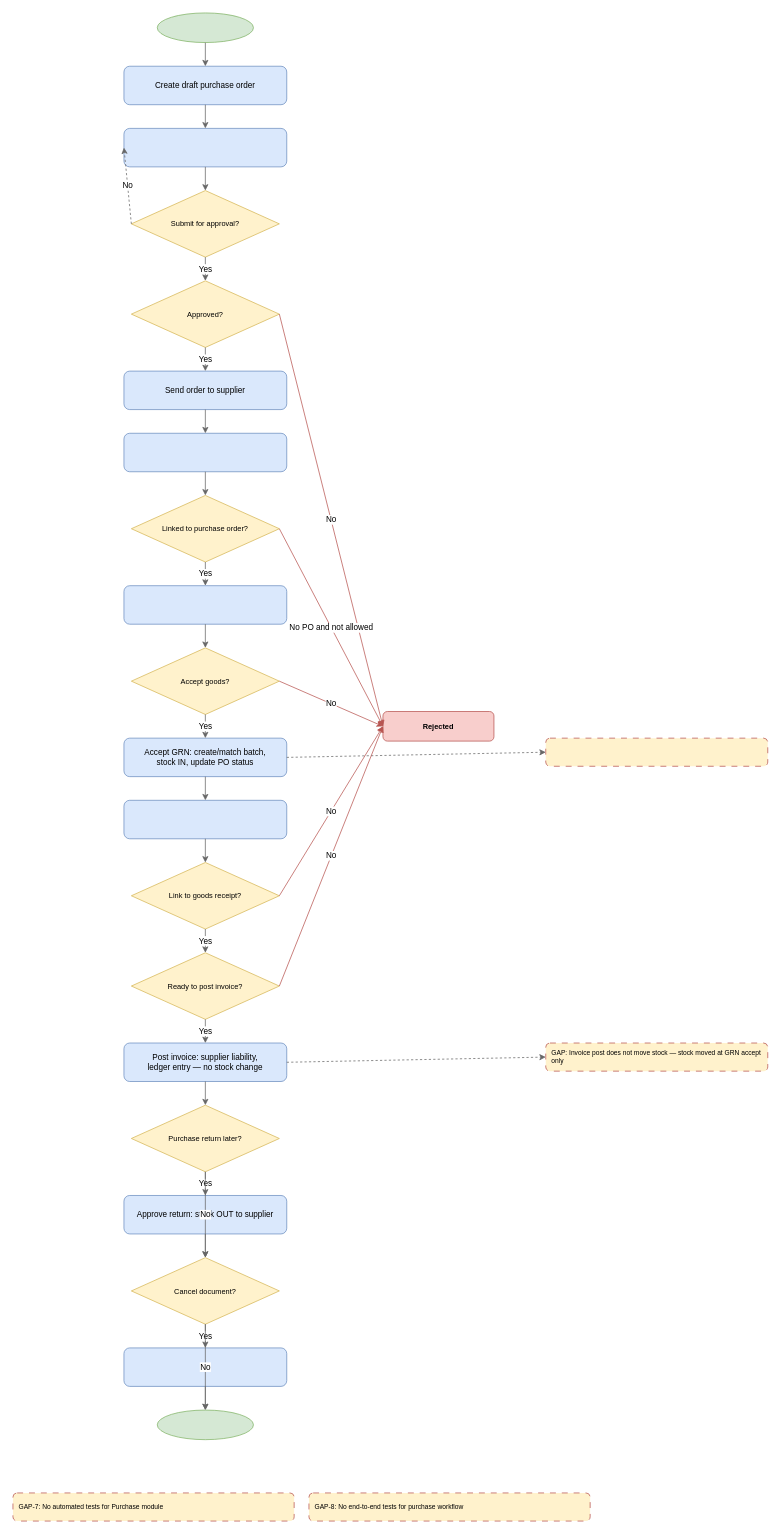
The diagram is 781 pixels wide and 1534 high, and some of its shapes have lost their labels. Each missing label, with the box of its shape:
Add order lines (medicines, quantities): (123, 128, 287, 167)
Cancel (reverse GRN stock if accepted): (123, 1347, 287, 1386)
Create draft purchase invoice: (123, 800, 287, 839)
Create goods receipt (GRN): (123, 433, 287, 472)
End: (157, 1409, 253, 1440)
GAP: GRN without PO gated by setting: (545, 737, 768, 766)
Start: (157, 12, 253, 43)
Submit for inspection: (123, 585, 287, 624)
